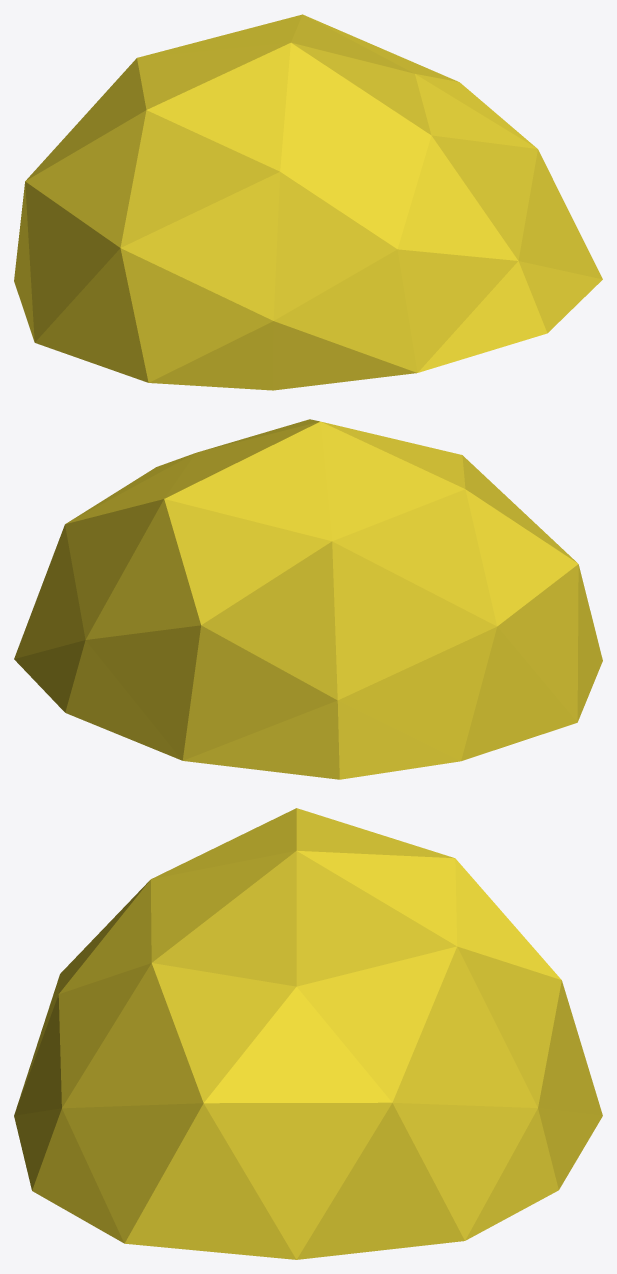
The model's file is sulfur.glb.
3 views of the same model, one above another, from view 1: azimuth 30°, elevation 25°; view 2: azimuth 150°, elevation 25°; view 3: azimuth 270°, elevation 25° (orthographic). The views are drawn at different scales.
Visible parts, largest first — view 1: sulfur; view 2: sulfur; view 3: sulfur.
Part boxes in pixels (x1,y1,x2,y2): sulfur: (14,14,602,390); sulfur: (14,419,602,779); sulfur: (14,808,602,1259).
Bounding box in the file's own units: 1.02 × 0.444 × 0.8941.
